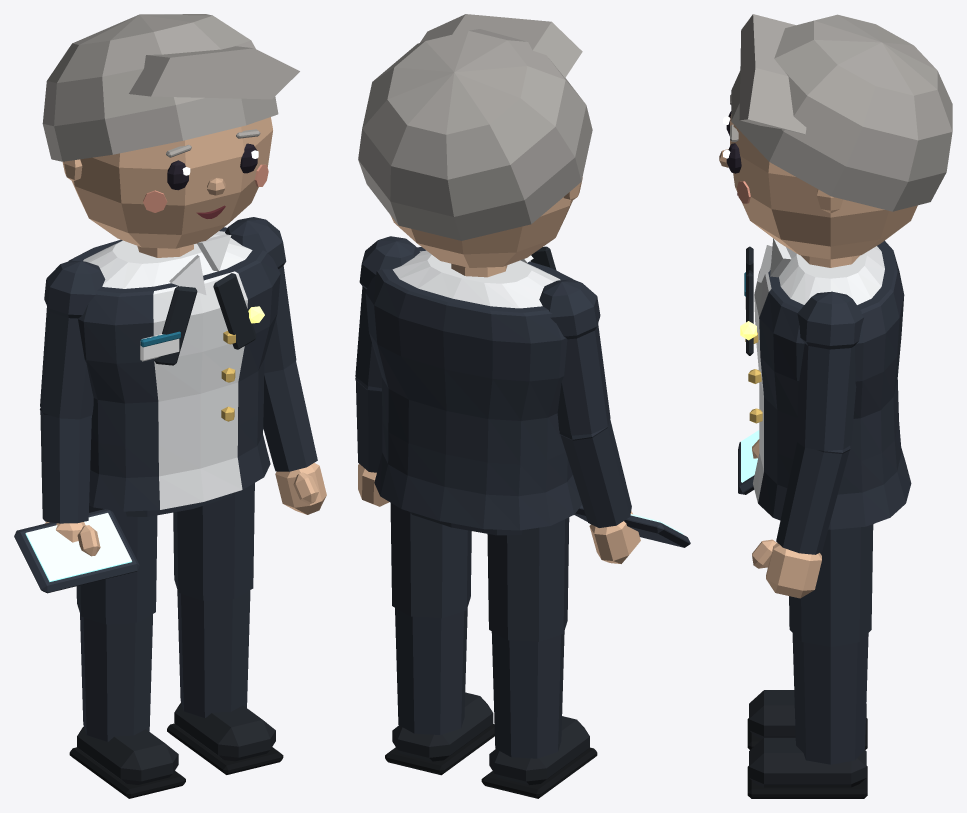
The model's file is man_grundmodell.glb.
3 views of the same model, side by side, from view 1: azimuth 30°, elevation 25°; view 2: azimuth 150°, elevation 25°; view 3: azimuth 270°, elevation 25° (orthographic).
Parts seen in each view (by area): view 1: jacke, haare, bein_l, kopf, bein_r, arm_r, arm_l, gegenstand_terminal, schuh_l, schuh_r, torso, revers (+6 smaller); view 2: jacke, haare, bein_r, bein_l, arm_r, arm_l, torso, kopf, schuh_r, schuh_l, hand_r, gegenstand_terminal (+1 smaller); view 3: haare, jacke, bein_l, arm_l, kopf, schuh_l, torso, hand_l, schuh_r, gesicht, gegenstand_terminal, kragen (+2 smaller).
Boxes of the visible parts, x1,y1,x2,y2 form: jacke: (68, 227, 280, 511); haare: (42, 14, 299, 161); bein_l: (173, 483, 254, 717); kopf: (62, 117, 272, 248); bein_r: (76, 505, 157, 741); arm_r: (40, 261, 105, 523); arm_l: (225, 217, 317, 471); gegenstand_terminal: (14, 509, 139, 593); schuh_l: (167, 702, 283, 774); schuh_r: (69, 726, 185, 798); torso: (83, 231, 252, 288); revers: (154, 273, 256, 365); jacke: (365, 247, 581, 530); haare: (358, 14, 592, 240); bein_r: (487, 517, 569, 758); bein_l: (390, 503, 471, 734); arm_r: (539, 279, 631, 527); arm_l: (355, 236, 420, 472); torso: (392, 250, 560, 308); kopf: (390, 177, 582, 267); schuh_r: (481, 716, 597, 798); schuh_l: (385, 692, 494, 775); hand_r: (589, 511, 640, 563); gegenstand_terminal: (574, 504, 690, 547); haare: (731, 14, 952, 211); jacke: (753, 240, 911, 529); bein_l: (789, 525, 873, 764); arm_l: (776, 291, 864, 554); kopf: (730, 114, 917, 259); schuh_l: (747, 737, 867, 798); torso: (779, 246, 884, 304); hand_l: (752, 539, 821, 598); schuh_r: (747, 690, 867, 749); gesicht: (719, 94, 750, 203); gegenstand_terminal: (738, 430, 759, 494); kragen: (757, 238, 791, 282).
Size of the model in its own units: 0.012 by 0.0276 by 0.00798.
